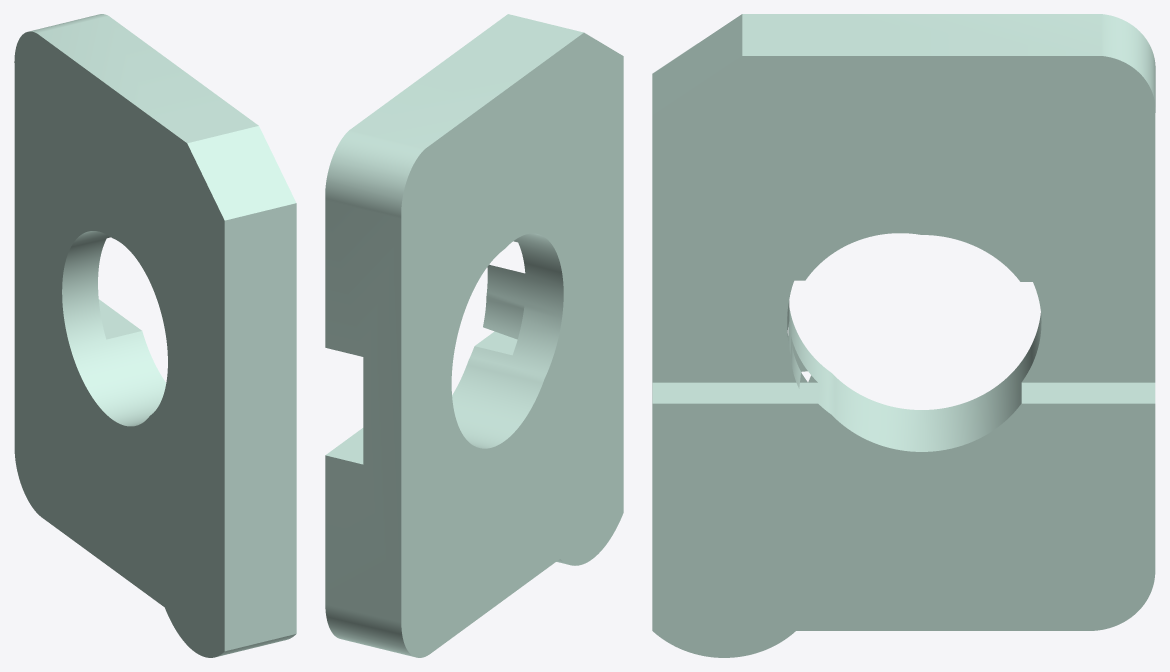
3 renders of one model, left to right at view 1: azimuth 30°, elevation 25°; view 2: azimuth 150°, elevation 25°; view 3: azimuth 270°, elevation 25°, orthographic. The views are drawn at different scales.
Parts seen in each view (by area): view 1: Renderer Node; view 2: Renderer Node; view 3: Renderer Node.
Boxes of the visible parts, box(x1,y1,x2,y2) form: Renderer Node: box(14, 14, 296, 657); Renderer Node: box(325, 14, 623, 657); Renderer Node: box(652, 14, 1155, 657).
Bounding box in the file's own units: 0.2344 × 1.57 × 1.19.
